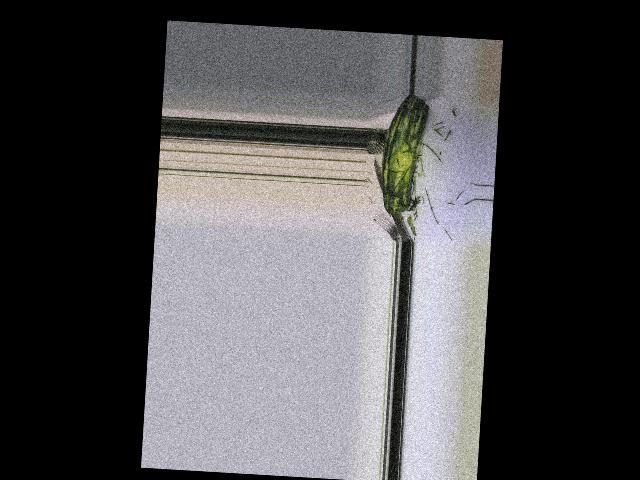cucumber: (379, 94, 430, 216)
